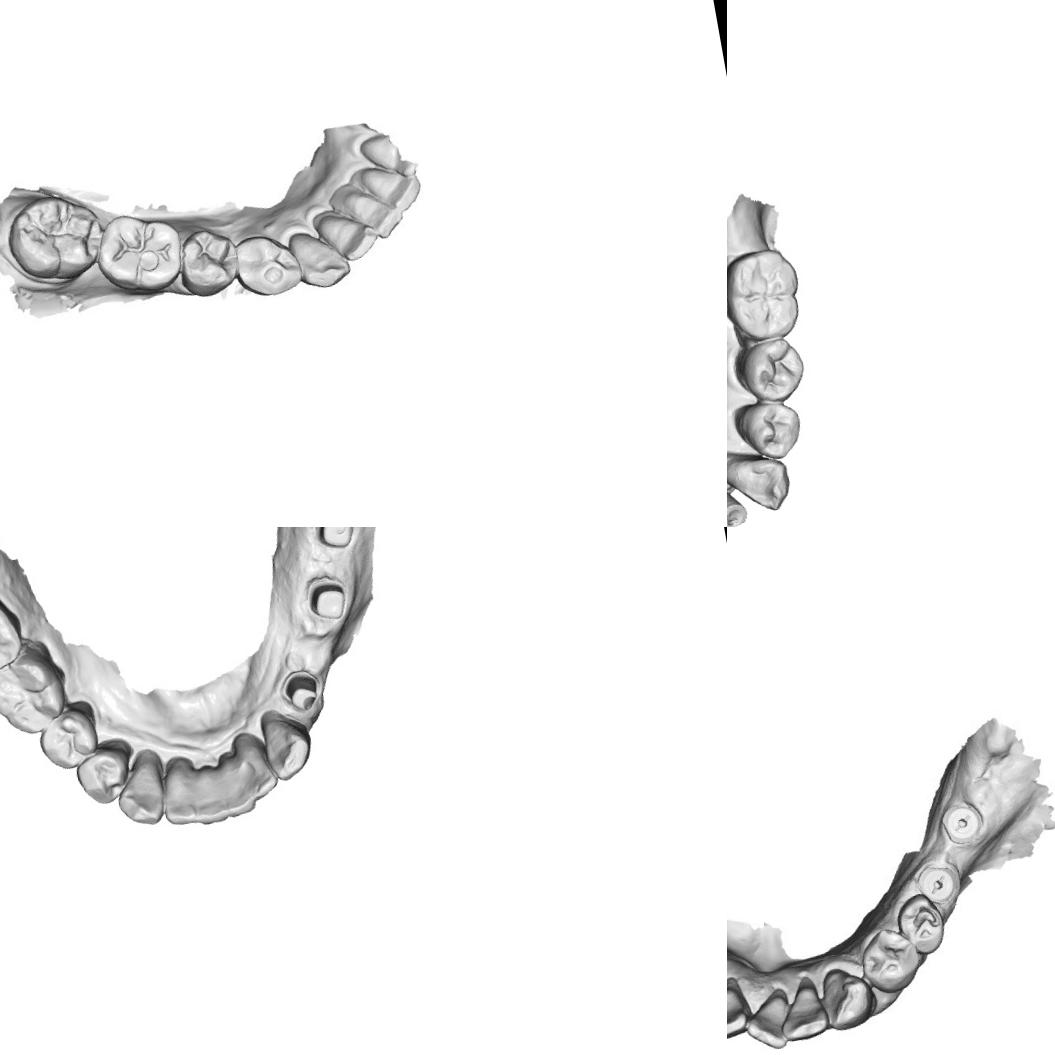abutment: (300, 570, 354, 626), (276, 666, 324, 714), (309, 527, 360, 554)
canine: (256, 702, 318, 784), (727, 443, 793, 519), (110, 749, 170, 830), (285, 224, 348, 292), (821, 962, 882, 1030)
implant: (727, 469, 749, 527)
implant_minus: (926, 794, 990, 852), (913, 855, 965, 907)
incisor: (310, 202, 378, 266), (775, 972, 832, 1038), (231, 728, 281, 802), (740, 981, 793, 1050), (340, 179, 401, 238), (154, 752, 199, 829), (358, 157, 420, 212), (215, 748, 258, 818), (186, 761, 229, 828), (727, 974, 754, 1037)
molar: (727, 242, 807, 347), (7, 192, 100, 278), (0, 638, 73, 739), (94, 209, 181, 292), (0, 584, 28, 681)
premolar: (732, 332, 809, 407), (68, 733, 140, 809), (32, 700, 104, 774), (732, 395, 804, 463), (859, 928, 929, 990), (235, 235, 297, 296), (178, 226, 234, 290), (897, 890, 950, 954)
